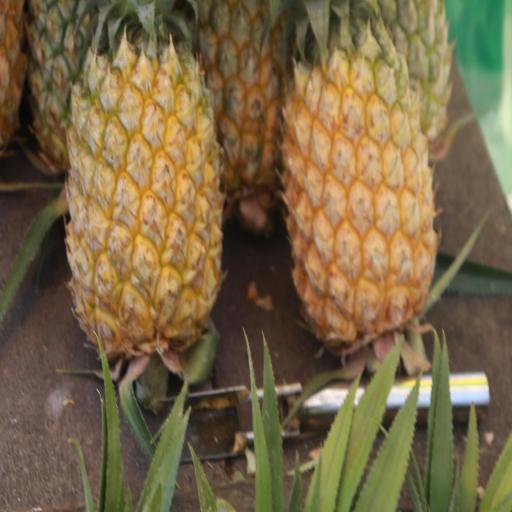Pineapple - v8 v1: (58, 0, 229, 397), (274, 0, 444, 375)
